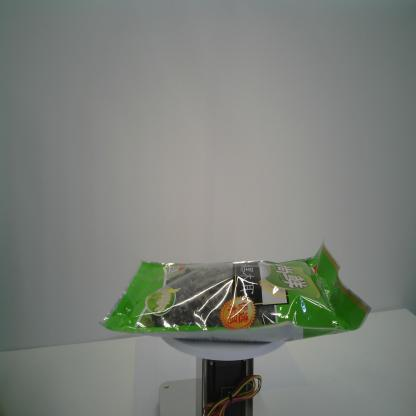Dried Food: (96, 234, 373, 345)
